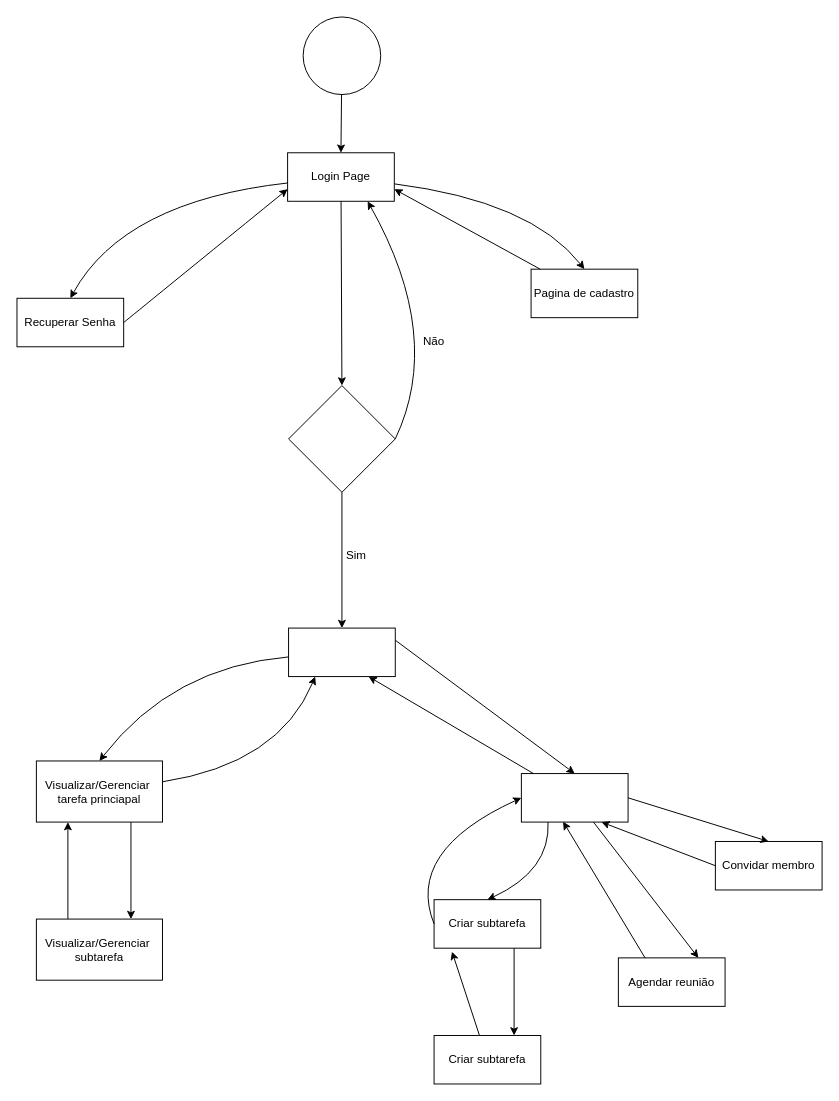
Some shapes in this 839 by 1101 pixel diagram are drawn without their labels. Each missing label, with the centre of its shape:
"Criar Trarefa" belongs at point (574, 797).
"Home Page" belongs at point (341, 652).
"Inicia App" belongs at point (341, 55).
"Senha correta?" belongs at point (341, 438).
